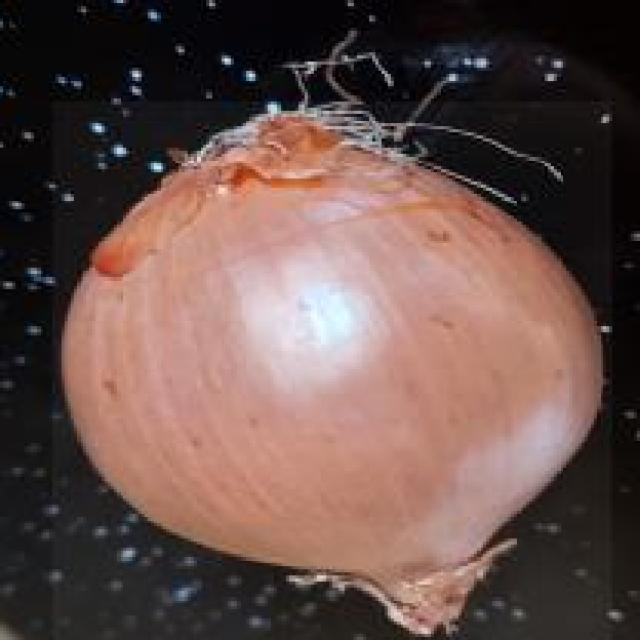onion: (50, 98, 613, 639)
